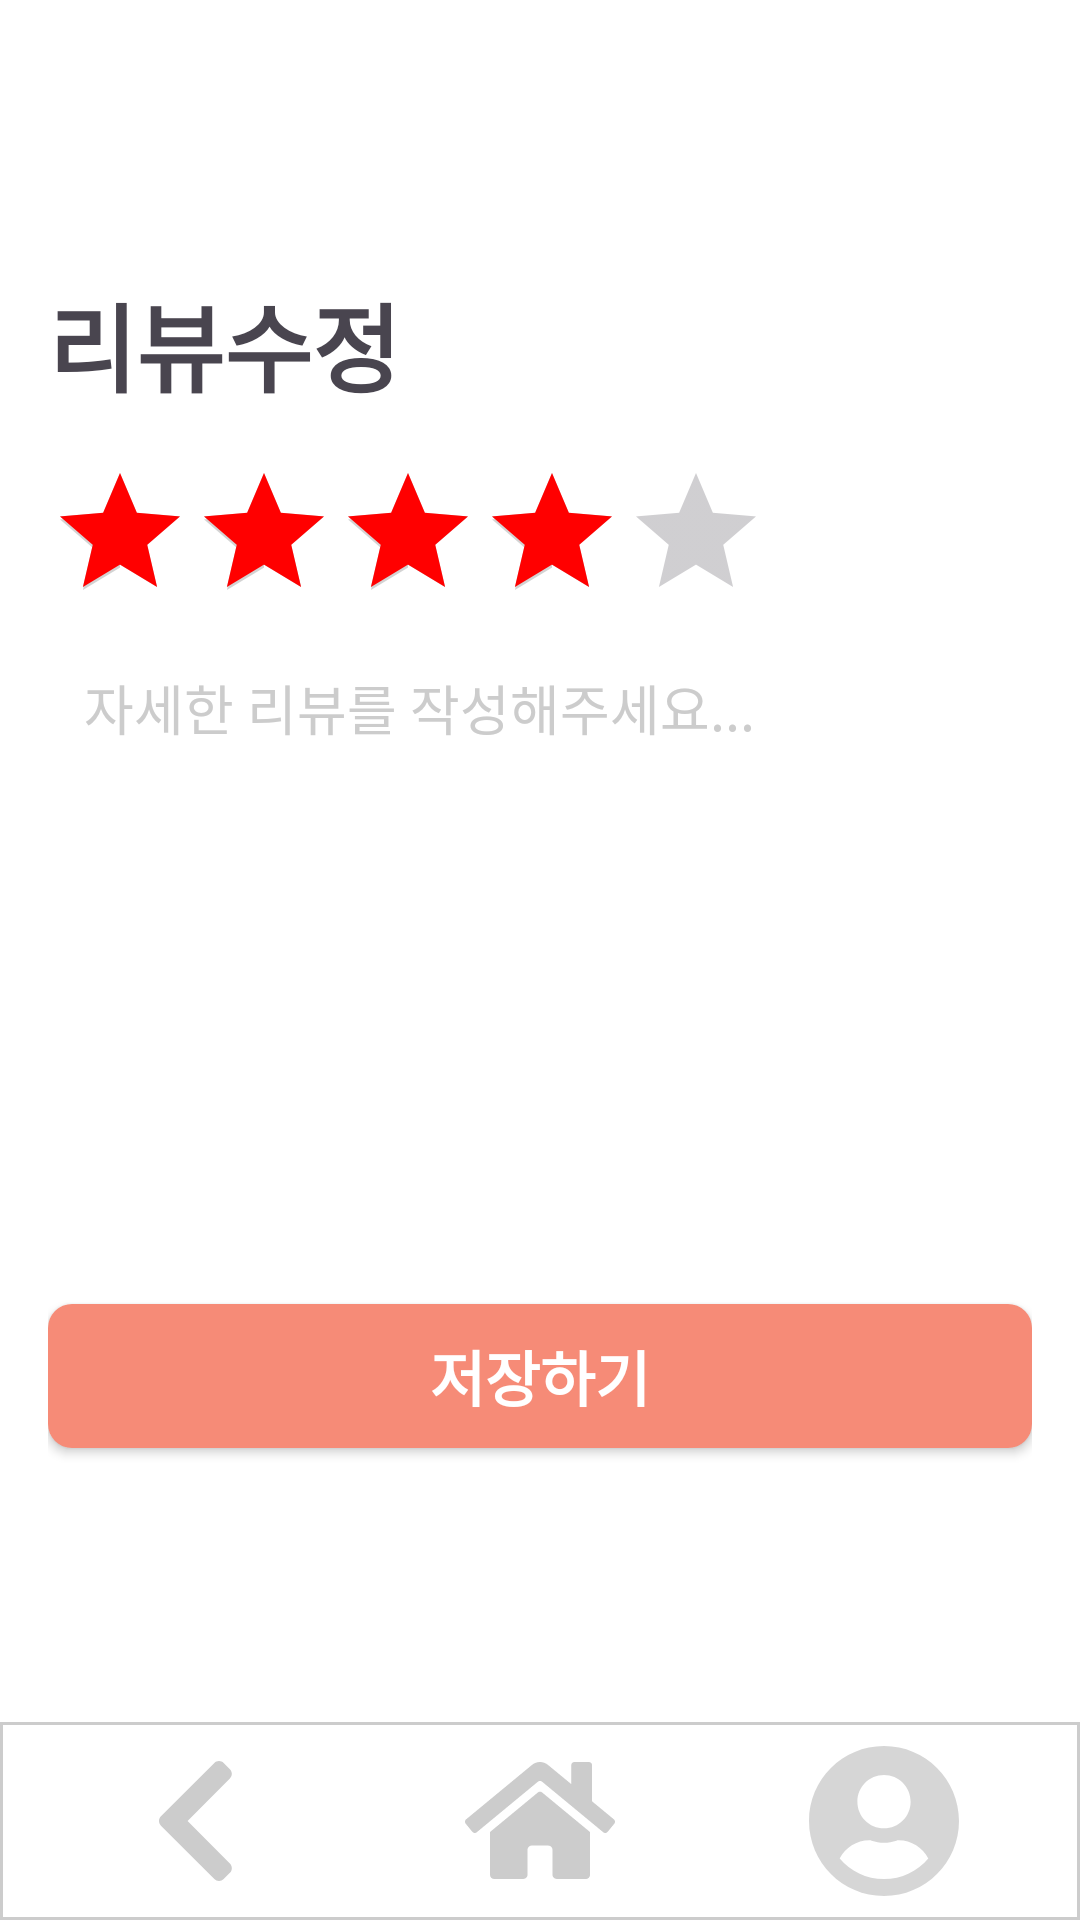

Point at icon controls on the screen. Image size 1080 x 1920, points as (x,y).
Back Button: (195,1821)
Home Button: (540,1820)
My Page Button: (884,1821)
